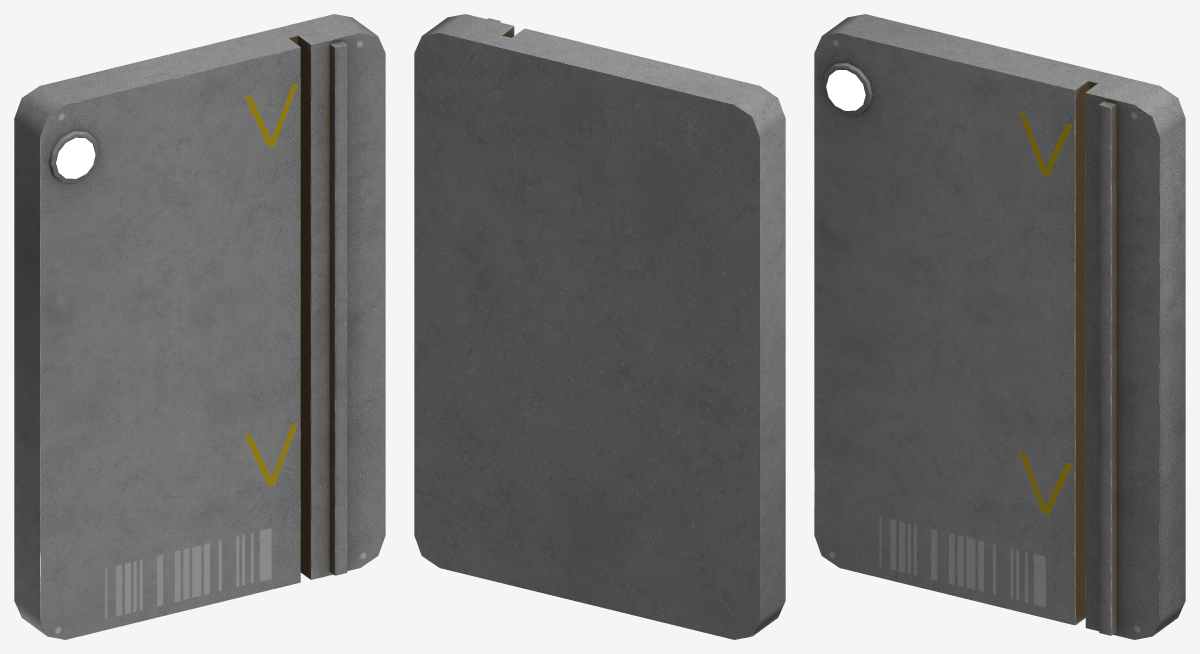
File: KeyPad.fbx
3 views of the same model, side by side, from view 1: azimuth 30°, elevation 25°; view 2: azimuth 150°, elevation 25°; view 3: azimuth 330°, elevation 25° (orthographic).
Visible parts, largest first — view 1: Keycard Scanner; view 2: Keycard Scanner; view 3: Keycard Scanner.
Boxes of the visible parts, left/top/right/bottom form: Keycard Scanner: left=14, top=14, right=385, bottom=639; Keycard Scanner: left=414, top=14, right=785, bottom=639; Keycard Scanner: left=814, top=14, right=1185, bottom=639.
Size of the model in its own units: 11.73 by 17.36 by 2.07.
